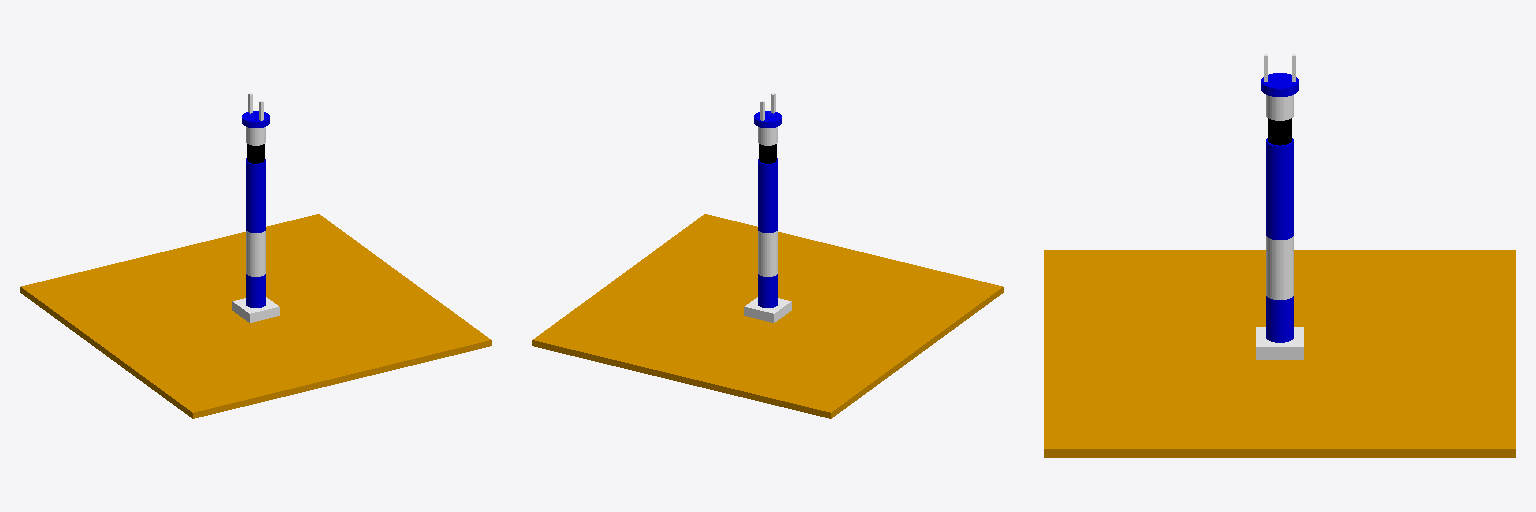
The robot description file, URDF, robot "arm":
<?xml version="1.0" ?>
<!-- =================================================================================== -->
<!-- |    This document was autogenerated by xacro from arm.xacro                      | -->
<!-- |    EDITING THIS FILE BY HAND IS NOT RECOMMENDED                                 | -->
<!-- =================================================================================== -->
<robot name="arm" xmlns:xacro="http://ros.org/wiki/xacro">
  <!-- Defining the colors used in this robot -->
  <material name="Black">
    <color rgba="0 0 0 1"/>
  </material>
  <material name="White">
    <color rgba="1 1 1 1"/>
  </material>
  <material name="Blue">
    <color rgba="0 0 1 1"/>
  </material>
  <material name="Red">
    <color rgba="1 0 0 1"/>
  </material>
  <!-- ///////////////////////////////////////   bottom_joint   ////////////////////////////////////////// -->
  <joint name="bottom_joint" type="fixed">
    <origin rpy="0 0 0" xyz="0 0 0"/>
    <parent link="base_link"/>
    <child link="bottom_link"/>
  </joint>
  <link name="bottom_link">
    <visual>
      <origin rpy="0 0 0" xyz=" 0 0 -0.02"/>
      <geometry>
        <box size="1 1 0.02"/>
      </geometry>
      <material name="Brown"/>
    </visual>
    <collision>
      <origin rpy="0 0 0" xyz=" 0 0 -0.02"/>
      <geometry>
        <box size="1 1 0.02"/>
      </geometry>
    </collision>
    <inertial>
      <mass value="500"/>
      <inertia ixx="1.0" ixy="0.0" ixz="0.0" iyy="0.5" iyz="0.0" izz="1.0"/>
    </inertial>
  </link>
  <!-- /////////////////////////////////////   BASE LINK    ////////////////////////////////////////////// -->
  <link name="base_link">
    <visual>
      <origin rpy="0 0 0" xyz="0 0 0"/>
      <geometry>
        <box size="0.1 0.1 0.04"/>
      </geometry>
      <material name="White"/>
    </visual>
    <collision>
      <origin rpy="0 0 0" xyz="0 0 0"/>
      <geometry>
        <box size="0.1 0.1 0.04"/>
      </geometry>
    </collision>
    <inertial>
      <mass value="1"/>
      <inertia ixx="1.0" ixy="0.0" ixz="0.0" iyy="0.5" iyz="0.0" izz="1.0"/>
    </inertial>
  </link>
  <joint name="joint1" type="revolute">
    <parent link="base_link"/>
    <child link="link1"/>
    <origin rpy="0 1.570795 0" xyz="0 0 0.02"/>
    <axis xyz="-1 0 0"/>
    <limit effort="300" lower="-2.96" upper="2.96" velocity="1"/>
    <dynamics damping="50" friction="1"/>
  </joint>
  <!-- /////////////////////////////////////   LINK1  ////////////////////////////////////////////// -->
  <link name="link1">
    <visual>
      <origin rpy="0 1.570795 0" xyz="-0.05 0 0"/>
      <geometry>
        <cylinder length="0.1" radius="0.03"/>
      </geometry>
      <material name="Blue"/>
    </visual>
    <collision>
      <origin rpy="0 1.570795 0" xyz="-0.05 0 0"/>
      <geometry>
        <cylinder length="0.1" radius="0.03"/>
      </geometry>
    </collision>
    <inertial>
      <mass value="1"/>
      <inertia ixx="1.0" ixy="0.0" ixz="0.0" iyy="0.5" iyz="0.0" izz="1.0"/>
    </inertial>
  </link>
  <joint name="joint2" type="revolute">
    <parent link="link1"/>
    <child link="link2"/>
    <origin rpy="-1.570795 0 1.570795" xyz="-0.1 0 0.0"/>
    <axis xyz="1 0 0"/>
    <limit effort="300" lower="-2.35" upper="2.35" velocity="1"/>
    <dynamics damping="50" friction="1"/>
  </joint>
  <!-- ///////////////////////////////////////   LINK2  ////////////////////////////////////////////// -->
  <link name="link2">
    <visual>
      <origin rpy="0 0 0" xyz="0 0 0.07"/>
      <geometry>
        <cylinder length="0.14" radius="0.03"/>
      </geometry>
      <material name="White"/>
    </visual>
    <collision>
      <origin rpy="0 0 0" xyz="0 0 0.07"/>
      <geometry>
        <cylinder length="0.14" radius="0.03"/>
      </geometry>
    </collision>
    <inertial>
      <mass value="1"/>
      <inertia ixx="1.0" ixy="0.0" ixz="0.0" iyy="0.5" iyz="0.0" izz="1.0"/>
    </inertial>
  </link>
  <joint name="joint3" type="revolute">
    <parent link="link2"/>
    <child link="link3"/>
    <origin rpy="0 3.14159 0" xyz="0 0 0.14"/>
    <axis xyz="-1 0 0"/>
    <limit effort="300" lower="-2.62" upper="2.62" velocity="1"/>
    <dynamics damping="50" friction="1"/>
  </joint>
  <!-- /////////////////////////////////   LINK3  ///////////////////////////////////////////////////// -->
  <link name="link3">
    <visual>
      <origin rpy="0 0 0" xyz="0 0 -0.11"/>
      <geometry>
        <cylinder length="0.22" radius="0.03"/>
      </geometry>
      <material name="Blue"/>
    </visual>
    <collision>
      <origin rpy="0 0 0" xyz="0 0 -0.11"/>
      <geometry>
        <cylinder length="0.22" radius="0.03"/>
      </geometry>
    </collision>
    <inertial>
      <mass value="1"/>
      <inertia ixx="1.0" ixy="0.0" ixz="0.0" iyy="0.5" iyz="0.0" izz="1.0"/>
    </inertial>
  </link>
  <joint name="joint4" type="revolute">
    <parent link="link3"/>
    <child link="link4"/>
    <origin rpy="0 1.570795 3.14159" xyz="0.0 0.0 -0.22"/>
    <axis xyz="1 0 0"/>
    <limit effort="300" lower="-2.62" upper="2.62" velocity="1"/>
    <dynamics damping="50" friction="1"/>
  </joint>
  <!-- ///////////////////////////////////   LINK4  //////////////////////////////////////////////// -->
  <link name="link4">
    <visual>
      <origin rpy="0 1.570795 0" xyz="0.03 0 0"/>
      <geometry>
        <cylinder length="0.06" radius="0.025"/>
      </geometry>
      <material name="Black"/>
    </visual>
    <collision>
      <origin rpy="0 1.570795 0" xyz="0.03 0 0"/>
      <geometry>
        <cylinder length="0.06" radius="0.025"/>
      </geometry>
    </collision>
    <inertial>
      <mass value="1"/>
      <inertia ixx="1.0" ixy="0.0" ixz="0.0" iyy="0.5" iyz="0.0" izz="1.0"/>
    </inertial>
  </link>
  <joint name="joint5" type="revolute">
    <parent link="link4"/>
    <child link="link5"/>
    <origin rpy="0 1.570795 0" xyz="0.06 0.0 0.0"/>
    <axis xyz="1 0 0"/>
    <limit effort="300" lower="-2.62" upper="2.62" velocity="1"/>
    <dynamics damping="50" friction="1"/>
  </joint>
  <!-- //////////////////////////////////   LINK5  ///////////////////////////////////////////////// -->
  <link name="link5">
    <visual>
      <origin rpy="0 0 0" xyz="0 0 0.03"/>
      <geometry>
        <cylinder length="0.06" radius="0.03"/>
      </geometry>
      <material name="White"/>
    </visual>
    <collision>
      <origin rpy="0 0 0" xyz="0 0 0.03 "/>
      <geometry>
        <cylinder length="0.06" radius="0.03"/>
      </geometry>
    </collision>
    <inertial>
      <mass value="1"/>
      <inertia ixx="1.0" ixy="0.0" ixz="0.0" iyy="0.5" iyz="0.0" izz="1.0"/>
    </inertial>
  </link>
  <joint name="joint6" type="revolute">
    <parent link="link5"/>
    <child link="link6"/>
    <origin rpy="4.712385 -1.570795 0" xyz="0 0 0.06"/>
    <axis xyz="1 0 0"/>
    <limit effort="300" lower="-6.28" upper="6.28" velocity="1"/>
    <dynamics damping="50" friction="1"/>
  </joint>
  <!-- ////////////////////////////////   LINK6  ///////////////////////////////////////////////// -->
  <link name="link6">
    <visual>
      <origin rpy="0 1.570795 0" xyz="0.01 0 0 "/>
      <geometry>
        <cylinder length="0.02" radius="0.04"/>
      </geometry>
      <material name="Blue"/>
    </visual>
    <collision>
      <origin rpy="0 1.570795 0" xyz="0.01 0 0"/>
      <geometry>
        <cylinder length="0.02" radius="0.04"/>
      </geometry>
    </collision>
    <inertial>
      <mass value="1"/>
      <inertia ixx="1.0" ixy="0.0" ixz="0.0" iyy="0.5" iyz="0.0" izz="1.0"/>
    </inertial>
  </link>
  <joint name="finger_joint1" type="prismatic">
    <parent link="link6"/>
    <child link="gripper_finger_link1"/>
    <origin xyz="0.0 0 0"/>
    <axis xyz="0 1 0"/>
    <limit effort="100" lower="0" upper="0.06" velocity="1.0"/>
    <dynamics damping="50" friction="1"/>
  </joint>
  <!-- //////////////////////////////////////   gripper   ////////////////////////////////////////////// -->
  <!-- LEFT GRIPPER AFT LINK -->
  <link name="gripper_finger_link1">
    <visual>
      <origin xyz="0.04 -0.03 0"/>
      <geometry>
        <box size="0.08 0.01 0.01"/>
      </geometry>
      <material name="White"/>
    </visual>
    <inertial>
      <mass value="1"/>
      <inertia ixx="1.0" ixy="0.0" ixz="0.0" iyy="0.5" iyz="0.0" izz="1.0"/>
    </inertial>
  </link>
  <joint name="finger_joint2" type="fixed">
    <parent link="link6"/>
    <child link="gripper_finger_link2"/>
    <origin xyz="0.0 0 0"/>
  </joint>
  <!-- RIGHT GRIPPER AFT LINK -->
  <link name="gripper_finger_link2">
    <visual>
      <origin xyz="0.04 0.03 0"/>
      <geometry>
        <box size="0.08 0.01 0.01"/>
      </geometry>
      <material name="White"/>
    </visual>
    <inertial>
      <mass value="1"/>
      <inertia ixx="1.0" ixy="0.0" ixz="0.0" iyy="0.5" iyz="0.0" izz="1.0"/>
    </inertial>
  </link>
  <!-- Grasping frame -->
  <link name="grasping_frame"/>
  <joint name="grasping_frame_joint" type="fixed">
    <parent link="link6"/>
    <child link="grasping_frame"/>
    <origin rpy="0 0 0" xyz="0.08 0 0"/>
  </joint>
  <!-- /////////////////////////////////   Gazebo   ////////////////////////////////////// -->
  <gazebo reference="bottom_link">
    <material>Gazebo/White</material>
  </gazebo>
  <gazebo reference="base_link">
    <material>Gazebo/White</material>
  </gazebo>
  <gazebo reference="link1">
    <material>Gazebo/Blue</material>
  </gazebo>
  <gazebo reference="link2">
    <material>Gazebo/White</material>
  </gazebo>
  <gazebo reference="link3">
    <material>Gazebo/Blue</material>
  </gazebo>
  <gazebo reference="link4">
    <material>Gazebo/Black</material>
  </gazebo>
  <gazebo reference="link5">
    <material>Gazebo/White</material>
  </gazebo>
  <gazebo reference="link6">
    <material>Gazebo/Blue</material>
  </gazebo>
  <gazebo reference="gripper_finger_link1">
    <material>Gazebo/White</material>
  </gazebo>
  <gazebo reference="gripper_finger_link2">
    <material>Gazebo/White</material>
  </gazebo>
  <transmission name="tran1">
    <type>transmission_interface/SimpleTransmission</type>
    <joint name="joint1">
      <hardwareInterface>hardware_interface/PositionJointInterface</hardwareInterface>
    </joint>
    <actuator name="motor1">
      <hardwareInterface>hardware_interface/PositionJointInterface</hardwareInterface>
      <mechanicalReduction>1</mechanicalReduction>
    </actuator>
  </transmission>
  <transmission name="tran1">
    <type>transmission_interface/SimpleTransmission</type>
    <joint name="joint2">
      <hardwareInterface>hardware_interface/PositionJointInterface</hardwareInterface>
    </joint>
    <actuator name="motor1">
      <hardwareInterface>hardware_interface/PositionJointInterface</hardwareInterface>
      <mechanicalReduction>1</mechanicalReduction>
    </actuator>
  </transmission>
  <transmission name="tran1">
    <type>transmission_interface/SimpleTransmission</type>
    <joint name="joint3">
      <hardwareInterface>hardware_interface/PositionJointInterface</hardwareInterface>
    </joint>
    <actuator name="motor1">
      <hardwareInterface>hardware_interface/PositionJointInterface</hardwareInterface>
      <mechanicalReduction>1</mechanicalReduction>
    </actuator>
  </transmission>
  <transmission name="tran1">
    <type>transmission_interface/SimpleTransmission</type>
    <joint name="joint4">
      <hardwareInterface>hardware_interface/PositionJointInterface</hardwareInterface>
    </joint>
    <actuator name="motor1">
      <hardwareInterface>hardware_interface/PositionJointInterface</hardwareInterface>
      <mechanicalReduction>1</mechanicalReduction>
    </actuator>
  </transmission>
  <transmission name="tran1">
    <type>transmission_interface/SimpleTransmission</type>
    <joint name="joint5">
      <hardwareInterface>hardware_interface/PositionJointInterface</hardwareInterface>
    </joint>
    <actuator name="motor1">
      <hardwareInterface>hardware_interface/PositionJointInterface</hardwareInterface>
      <mechanicalReduction>1</mechanicalReduction>
    </actuator>
  </transmission>
  <transmission name="tran1">
    <type>transmission_interface/SimpleTransmission</type>
    <joint name="joint6">
      <hardwareInterface>hardware_interface/PositionJointInterface</hardwareInterface>
    </joint>
    <actuator name="motor1">
      <hardwareInterface>hardware_interface/PositionJointInterface</hardwareInterface>
      <mechanicalReduction>1</mechanicalReduction>
    </actuator>
  </transmission>
  <transmission name="tran1">
    <type>transmission_interface/SimpleTransmission</type>
    <joint name="finger_joint1">
      <hardwareInterface>hardware_interface/PositionJointInterface</hardwareInterface>
    </joint>
    <actuator name="motor1">
      <hardwareInterface>hardware_interface/PositionJointInterface</hardwareInterface>
      <mechanicalReduction>1</mechanicalReduction>
    </actuator>
  </transmission>
  <!-- ros_control plugin -->
  <gazebo>
    <plugin filename="libgazebo_ros_control.so" name="gazebo_ros_control">
      <robotNamespace>/arm</robotNamespace>
      <legacyModeNS>true</legacyModeNS>
    </plugin>
  </gazebo>
</robot>

--- What the picture shows (computed from the rendered views, not written in the file) ---
The picture shows the robot from 3 angles, left to right: view 1: azimuth 30°, elevation 25°; view 2: azimuth 150°, elevation 25°; view 3: azimuth 270°, elevation 25°; orthographic projection.
Robot: arm — 11 links, 10 joints (6 revolute, 1 prismatic, 3 fixed); root link base_link; default pose: every joint at zero.
Links seen in each view (by area): view 1: bottom_link, link3, link2, base_link, link1; view 2: bottom_link, link3, link2, base_link, link1; view 3: bottom_link, link3, link2, link1, base_link, link6, link5, link4.
Boxes of the visible links, bbox=[...] form: bottom_link: bbox=[20, 214, 491, 418]; link3: bbox=[246, 158, 265, 232]; link2: bbox=[246, 231, 265, 276]; base_link: bbox=[232, 297, 279, 322]; link1: bbox=[246, 274, 265, 307]; bottom_link: bbox=[532, 214, 1003, 418]; link3: bbox=[758, 158, 777, 232]; link2: bbox=[758, 231, 777, 276]; base_link: bbox=[744, 297, 791, 322]; link1: bbox=[758, 274, 777, 307]; bottom_link: bbox=[1044, 250, 1515, 457]; link3: bbox=[1266, 138, 1293, 239]; link2: bbox=[1266, 236, 1293, 299]; link1: bbox=[1266, 296, 1293, 342]; base_link: bbox=[1256, 327, 1303, 359]; link6: bbox=[1261, 73, 1298, 96]; link5: bbox=[1266, 95, 1293, 120]; link4: bbox=[1268, 118, 1291, 145].
Bounding box of the posed robot: 1 × 1 × 0.71 m (x, y, z).
Geometry: primitives only (box / cylinder / sphere), no mesh files.
